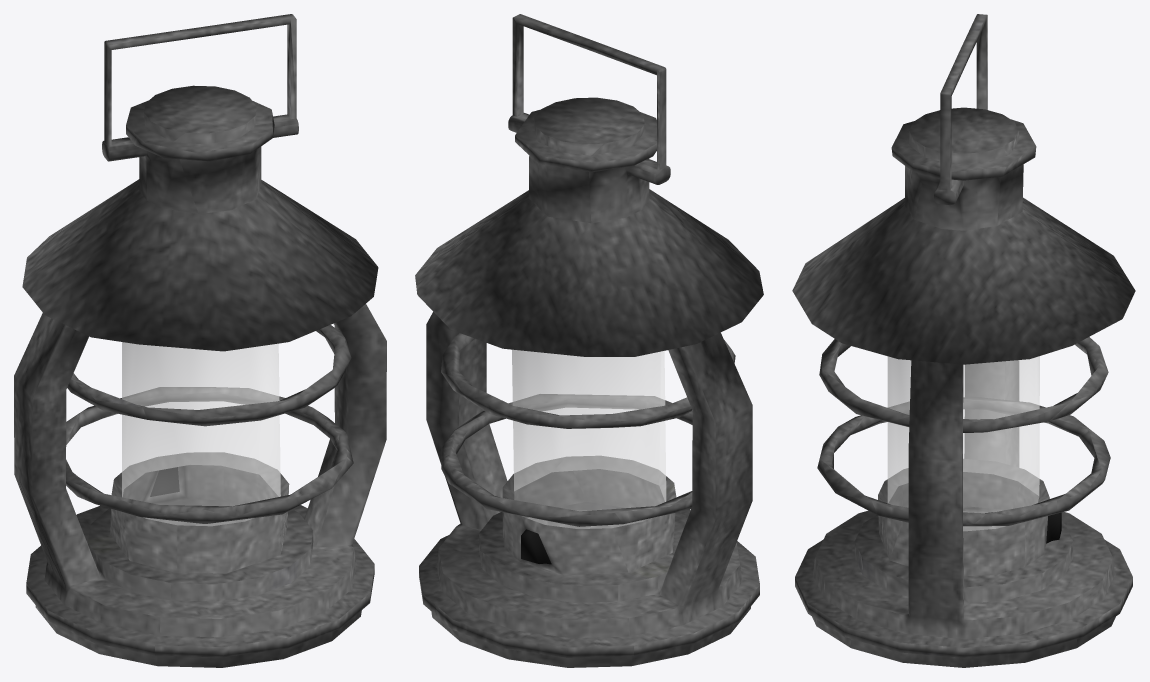
Rendered from lantern.glb.
3 renders of one model, left to right at view 1: azimuth 30°, elevation 25°; view 2: azimuth 150°, elevation 25°; view 3: azimuth 270°, elevation 25°, orthographic. The views are drawn at different scales.
Visible parts, largest first — view 1: Lantern; view 2: Lantern; view 3: Lantern.
Boxes of the visible parts, <box> form: Lantern: <box>14,14,386,667</box>; Lantern: <box>415,14,763,667</box>; Lantern: <box>792,14,1135,667</box>.
Bounding box in the file's own units: 4.88 × 7.92 × 4.51.
3 materials, 1 textured.
